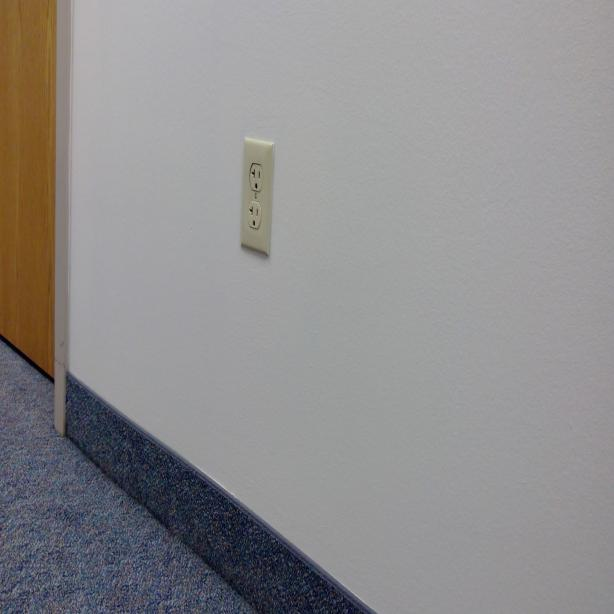typeb: (247, 163, 264, 192), (247, 203, 262, 232)
